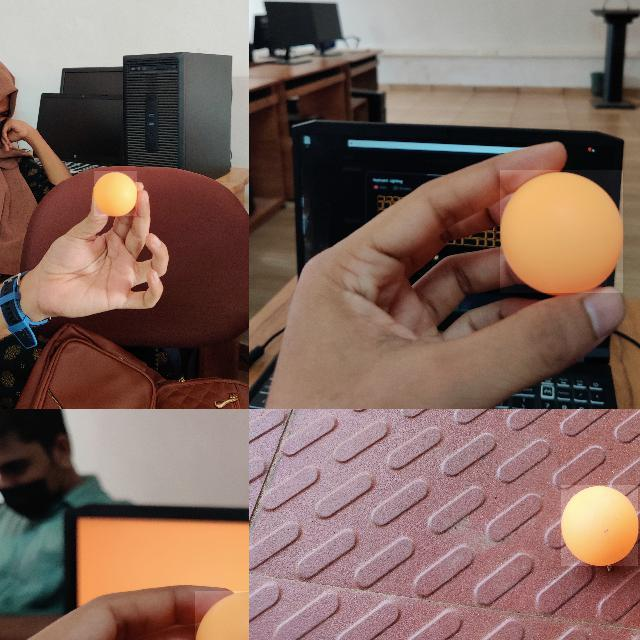ping-pong-ball: (500, 170, 624, 294), (560, 485, 640, 567), (195, 591, 248, 639), (94, 171, 138, 217)
